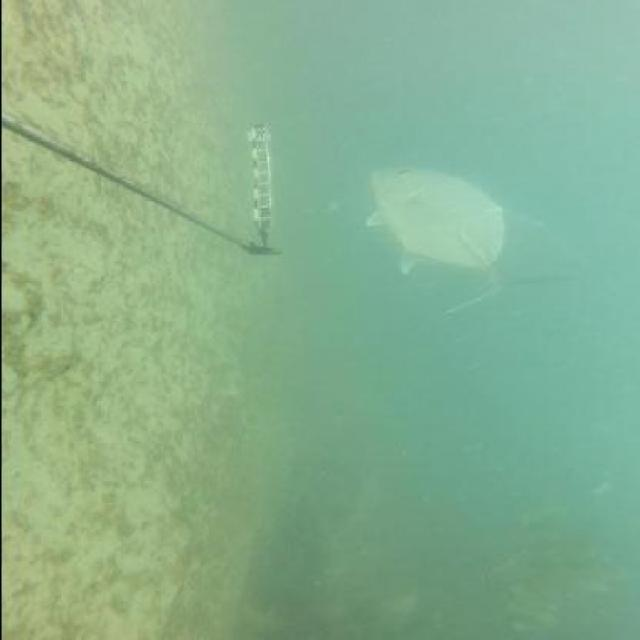Caranx: (357, 162, 568, 315)
